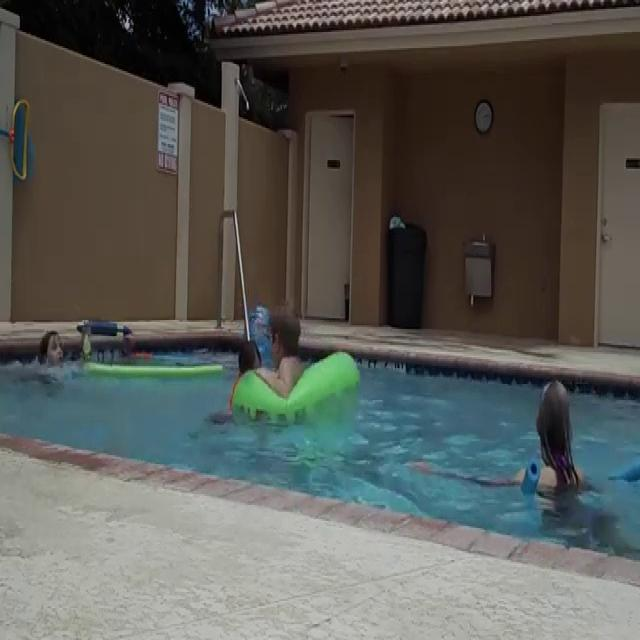adult: (523, 372, 640, 542)
child: (260, 302, 307, 409), (234, 337, 263, 430), (43, 328, 69, 379)
